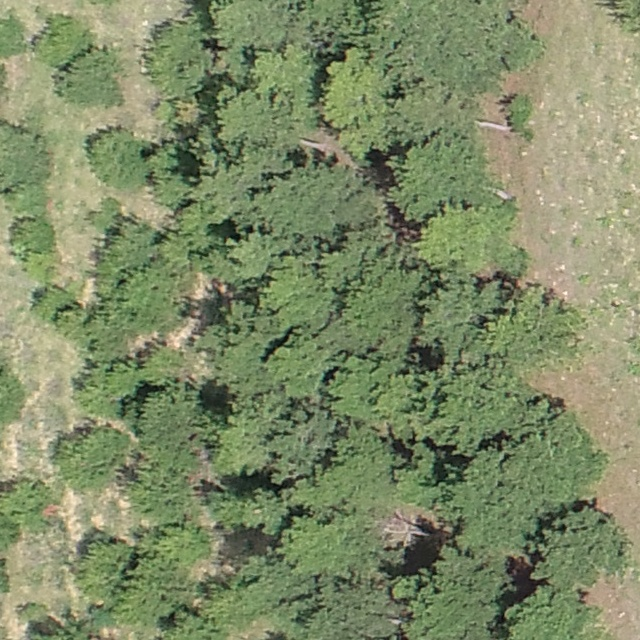unhealthy: (379, 506, 425, 550)
